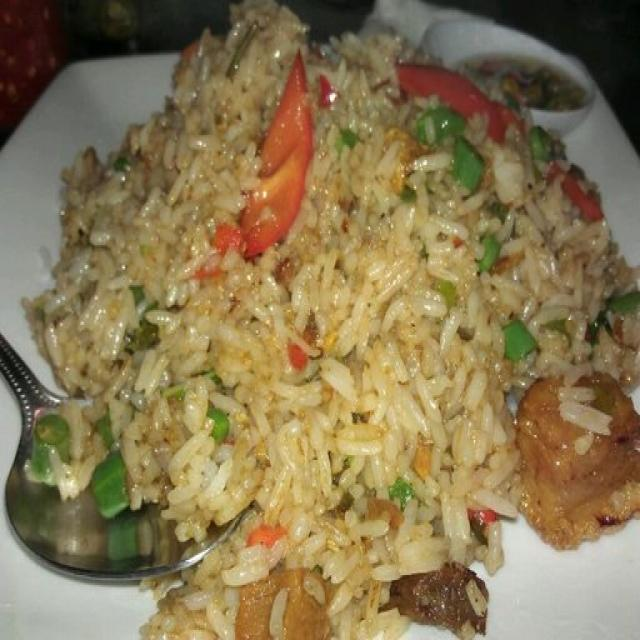Rice: (20, 1, 640, 640)
